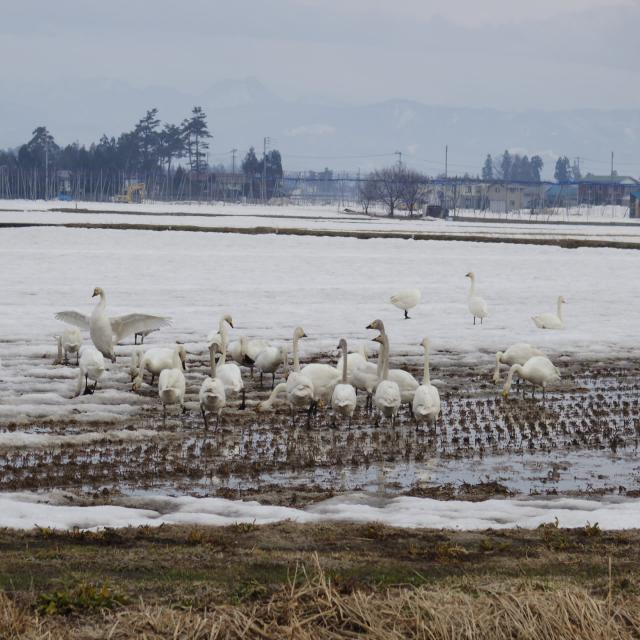bird: (51, 288, 169, 352), (364, 332, 406, 429), (262, 367, 346, 413), (196, 359, 244, 439), (125, 342, 190, 398), (482, 343, 546, 392), (214, 317, 247, 403), (61, 346, 110, 402), (160, 345, 192, 426), (500, 357, 561, 399), (333, 340, 364, 422), (413, 335, 440, 427), (217, 356, 250, 410), (462, 268, 490, 328), (534, 290, 570, 332), (286, 323, 310, 373), (388, 293, 418, 321)
